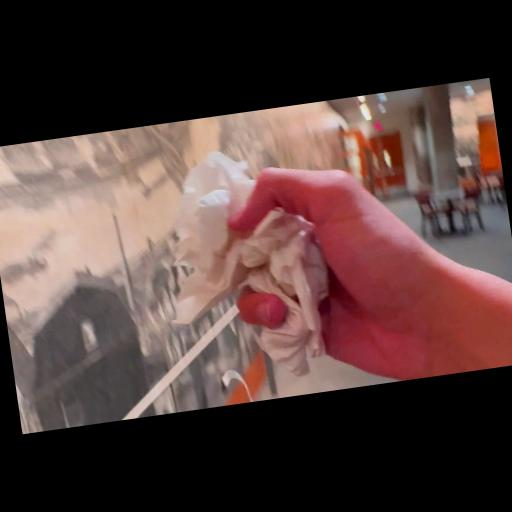napkin: (150, 138, 346, 394)
